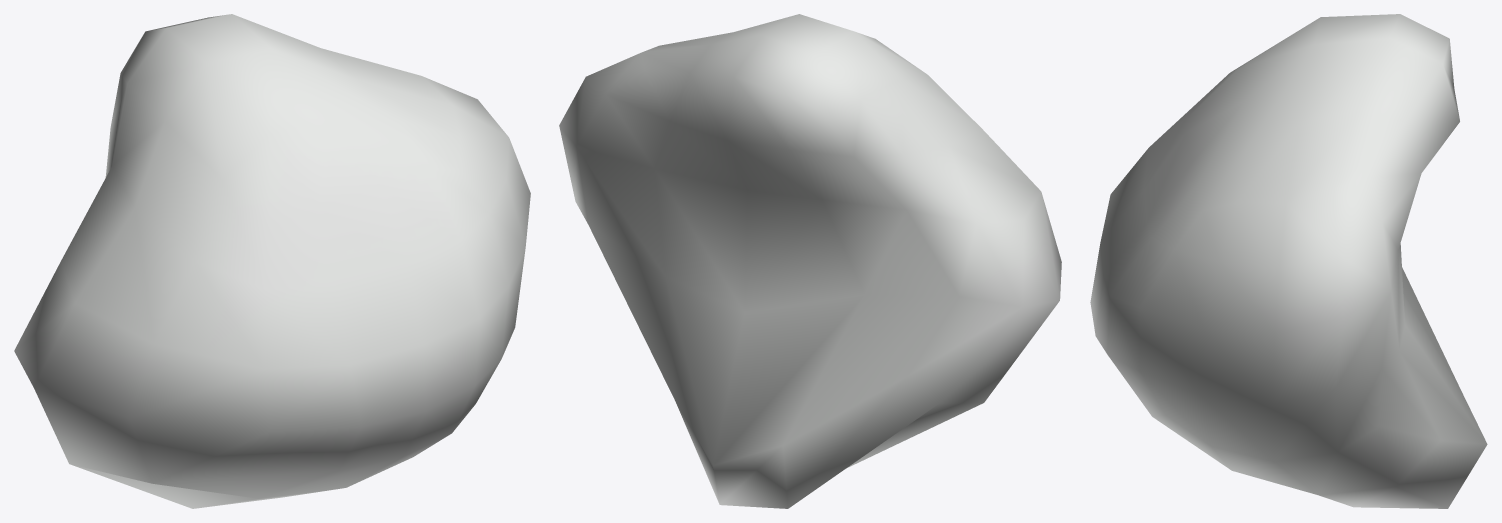
Rendered from Cloud 2.fbx.
3 views of the same model, side by side, from view 1: azimuth 30°, elevation 25°; view 2: azimuth 150°, elevation 25°; view 3: azimuth 270°, elevation 25° (orthographic). The views are drawn at different scales.
Parts seen in each view (by area): view 1: Group26079; view 2: Group26079; view 3: Group26079.
Part boxes in pixels (left/top/right/bottom): Group26079: left=14, top=14, right=530, bottom=508; Group26079: left=559, top=14, right=1061, bottom=508; Group26079: left=1090, top=14, right=1487, bottom=508.
Bounding box in the file's own units: 1.14 × 1.06 × 0.8219.
Materials: 1 (1 with a texture image).
